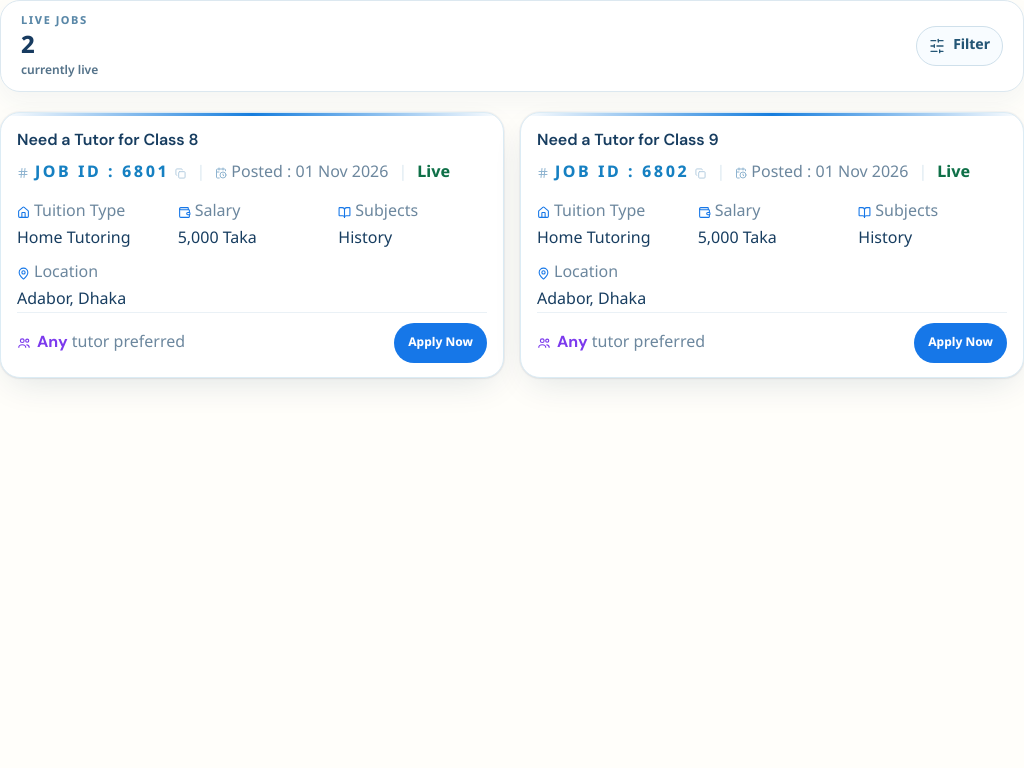
Scenario: the Tutoring Time in the details dialog a Tutor opens › shows no Tutoring Time row for a job that has none
Click the button with aria-label "Job ID 6801" at (252, 245), box x1=0 y1=112 x2=504 y2=378
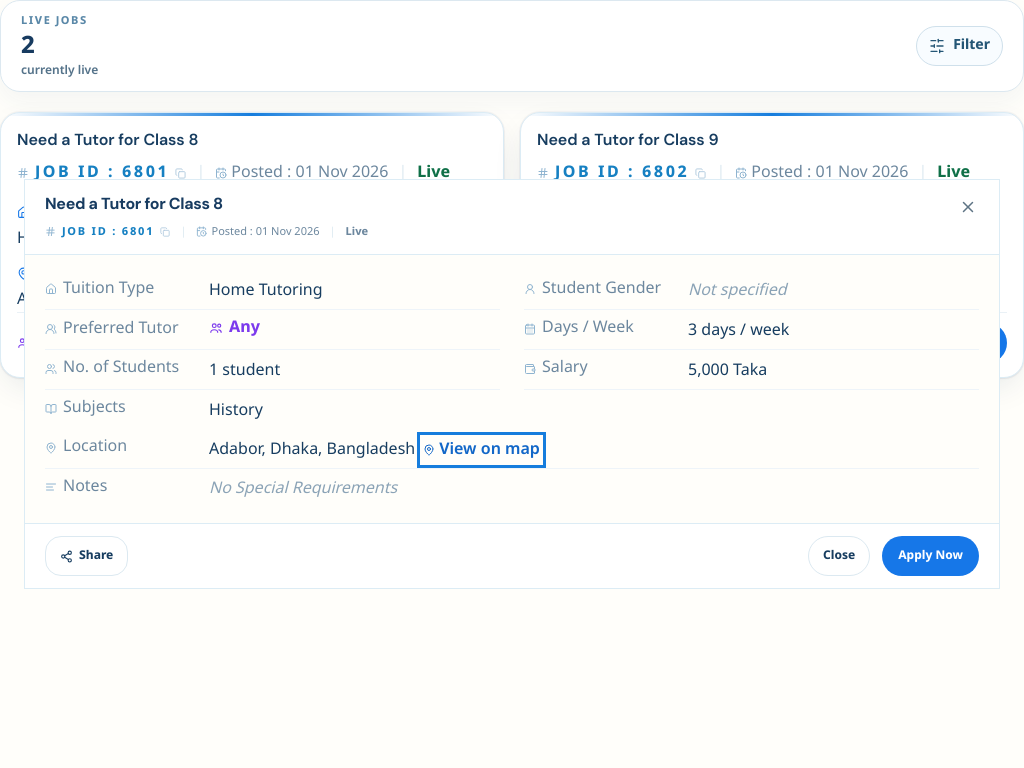
Now the text "Days / Week" is shown, box x1=524 y1=317 x2=634 y2=339
Now the button "Apply Now" is shown, box x1=882 y1=536 x2=979 y2=576
